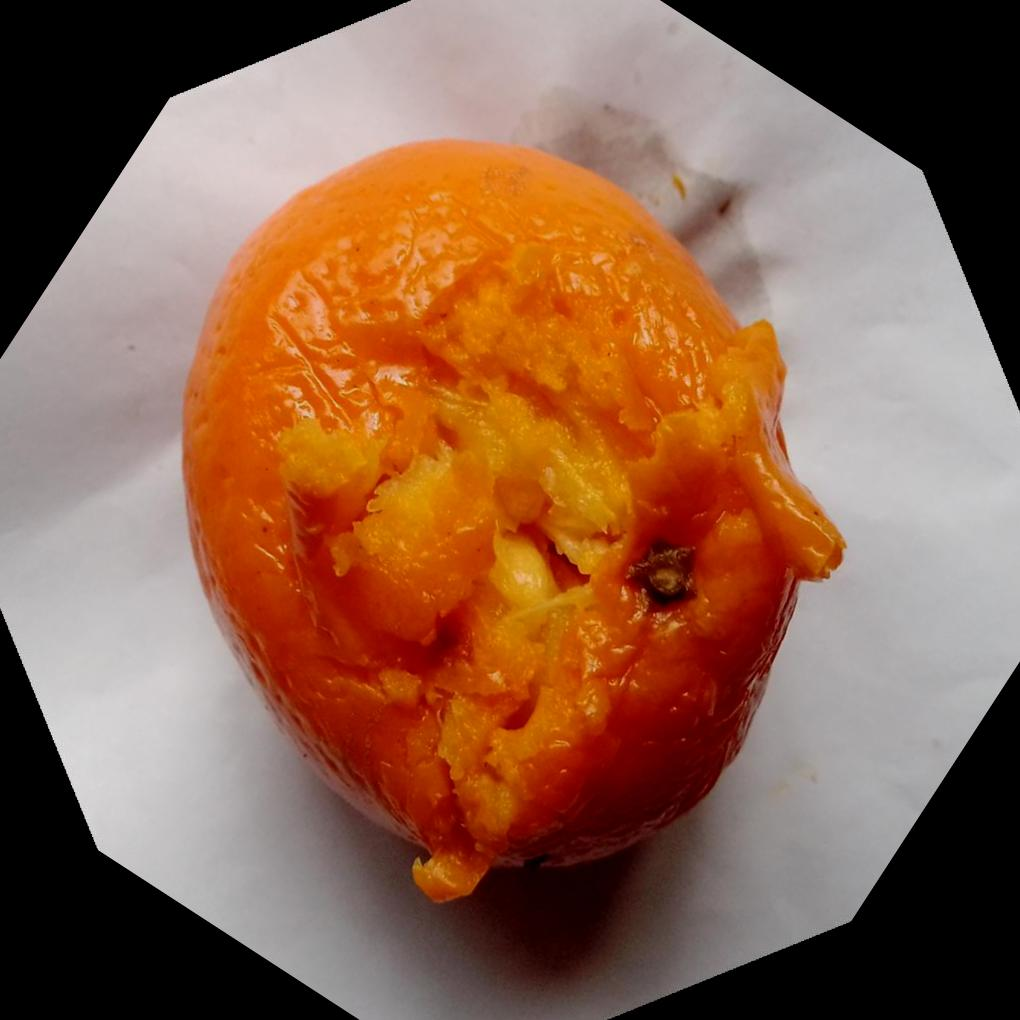FreshOrange: (180, 137, 849, 909)
